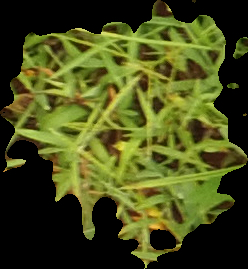grass: (1, 1, 247, 268)
